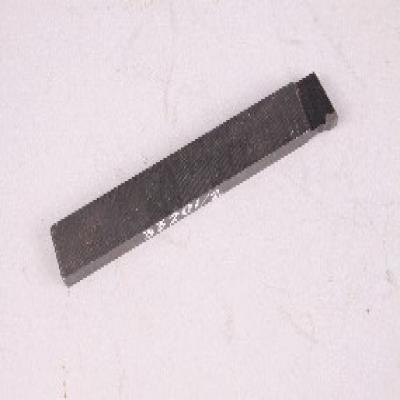technique: (49, 72, 335, 288)
